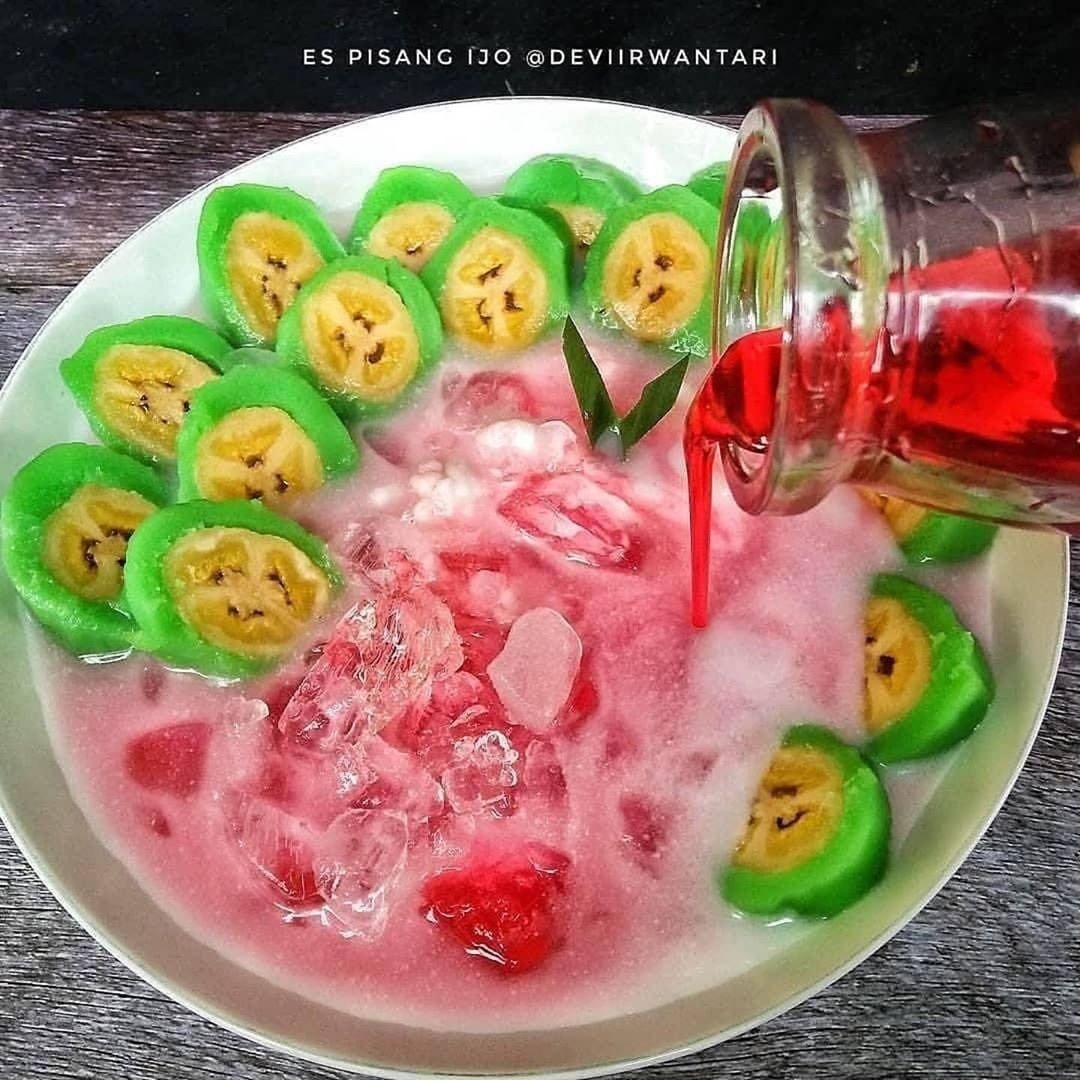pisang_ijo: (135, 498, 356, 695), (266, 247, 467, 436)
